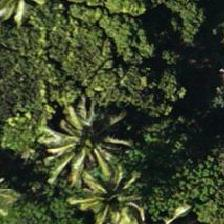Kelapa_Sawit: (46, 102, 136, 192), (69, 156, 160, 223)
